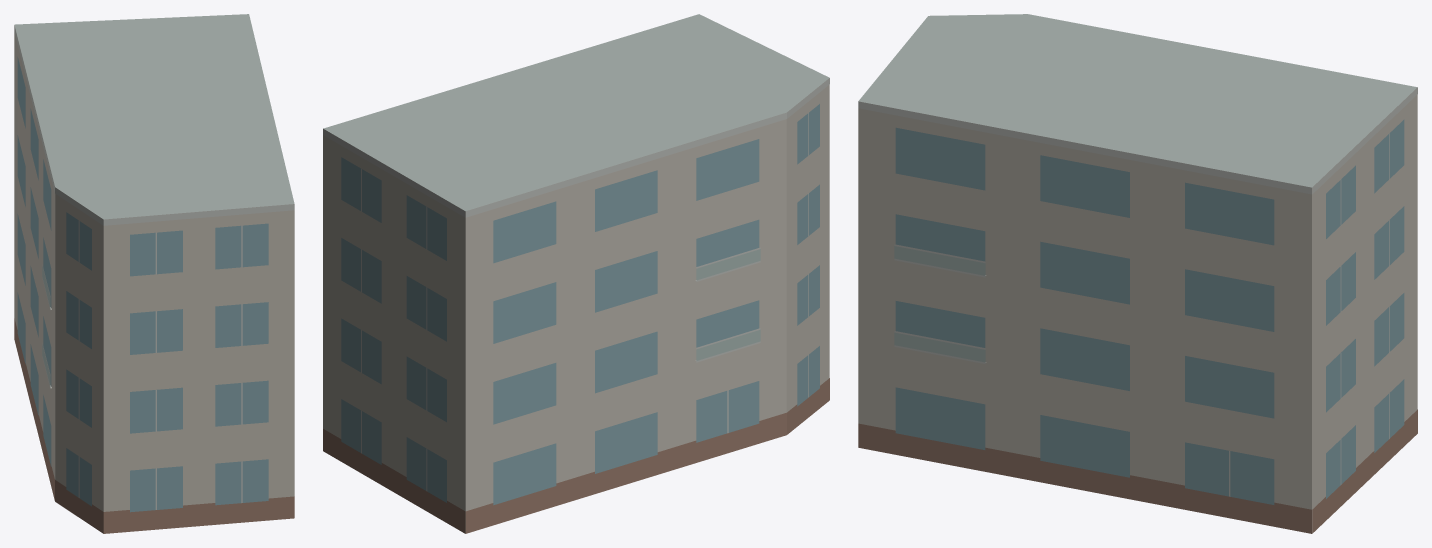
The model's file is survey-upis-32995973.glb.
3 renders of one model, left to right at view 1: azimuth 30°, elevation 25°; view 2: azimuth 150°, elevation 25°; view 3: azimuth 270°, elevation 25°, orthographic. The views are drawn at different scales.
Parts seen in each view (by area): view 1: survey-upis-32995973.tmp; view 2: survey-upis-32995973.tmp; view 3: survey-upis-32995973.tmp.
Boxes of the visible parts, x1,y1,x2,y2 form: survey-upis-32995973.tmp: [14, 14, 294, 533]; survey-upis-32995973.tmp: [323, 14, 829, 533]; survey-upis-32995973.tmp: [858, 14, 1417, 533].
Size of the model in its own units: 13.07 by 12.15 by 17.8.
